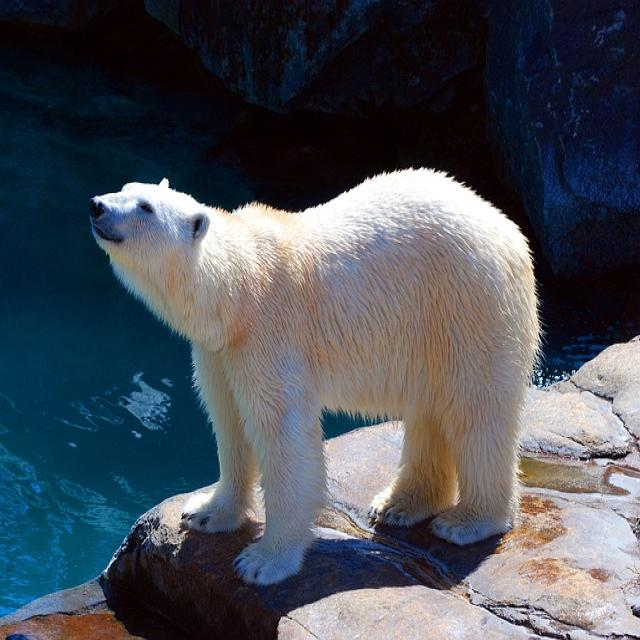Carnivorous: (87, 168, 542, 589)
